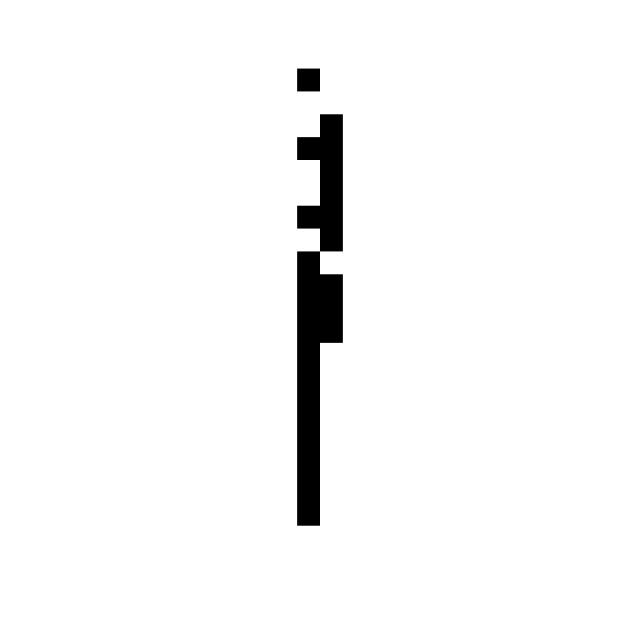1 -one-: (260, 46, 366, 540)
